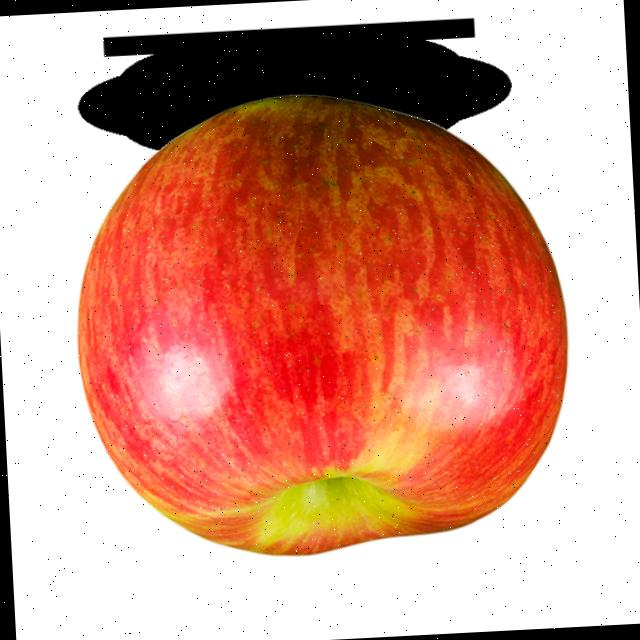Apel: (66, 81, 580, 568)
